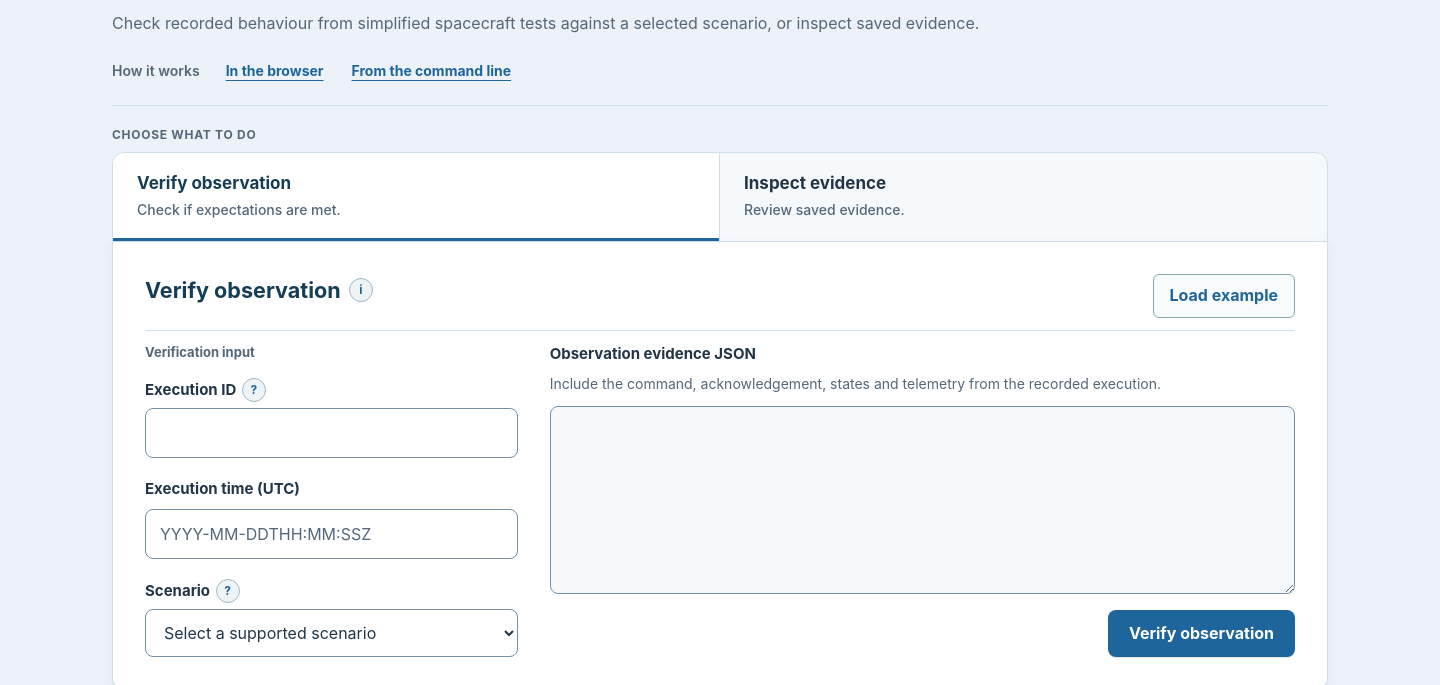
Scenario: App verification › renders completed PASS verification
Type "exec-web-verify-001" into the field labelled "Execution ID". click: (331,434)
box: [145, 408, 518, 458]
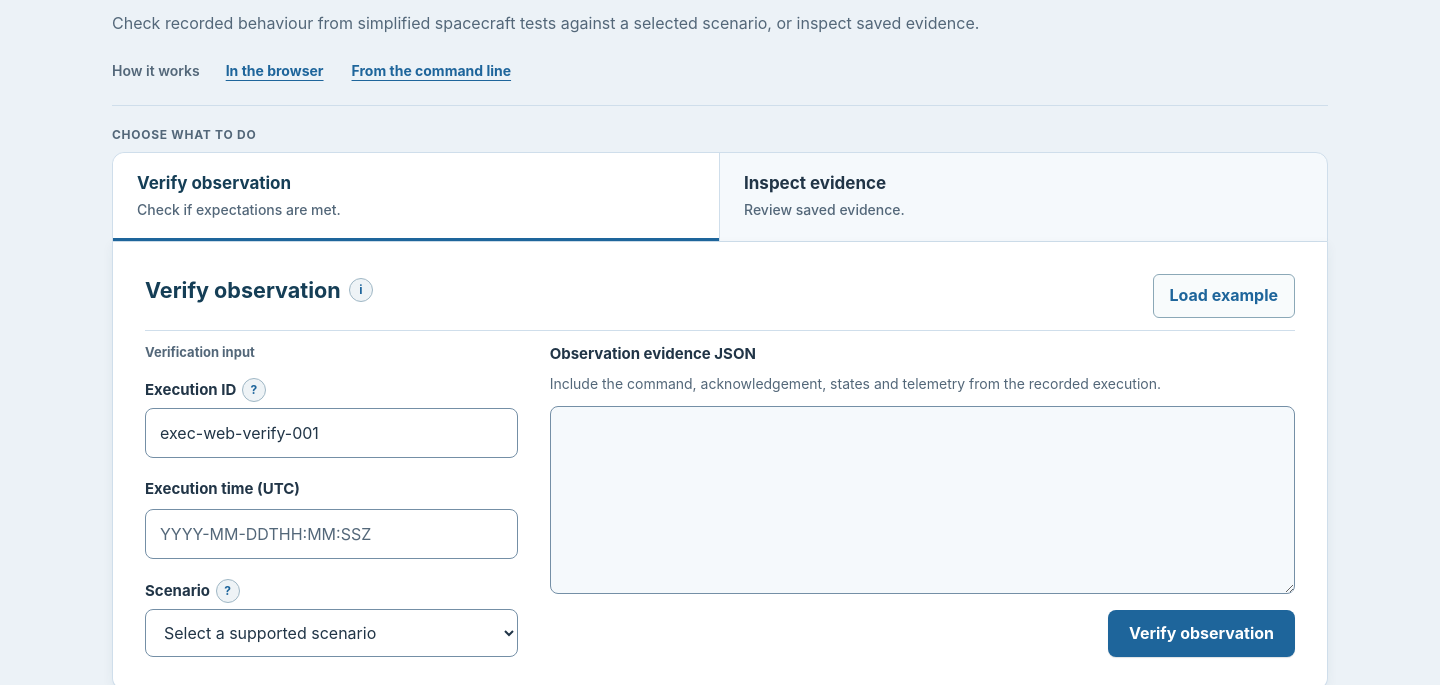
Type "2026-08-25T18:30:00Z" into the field labelled "Execution time (UTC)". click: (331,534)
box: [145, 509, 518, 559]
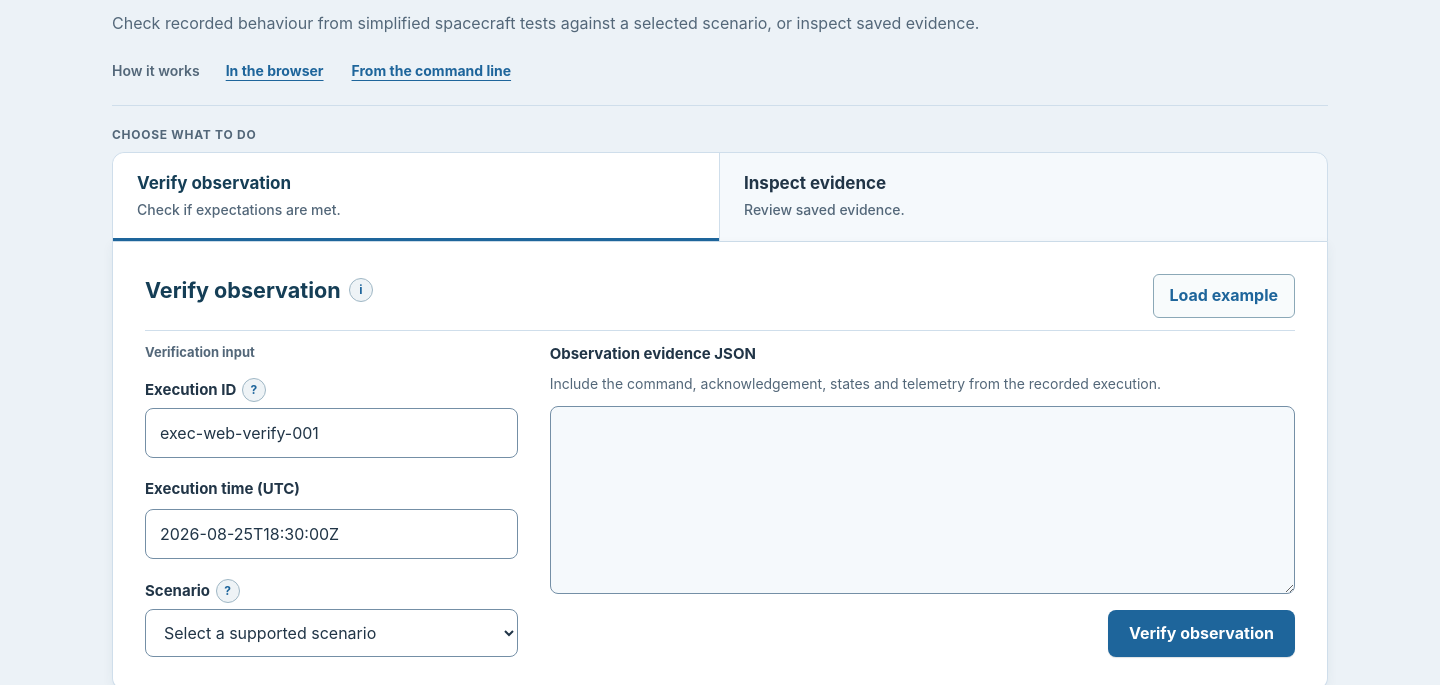
Select "NOMINAL to SAFE" in the dropdown labelled "Scenario". click: (331,633)
box: [145, 609, 518, 657]
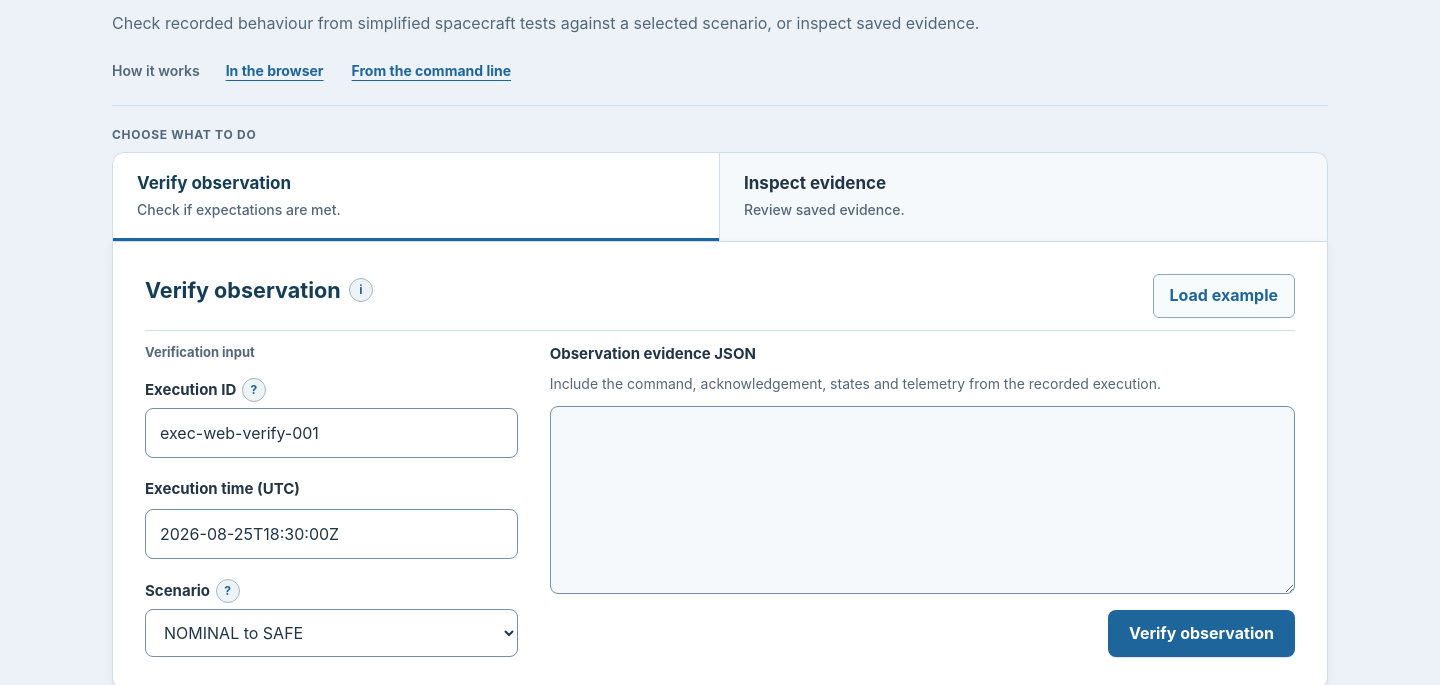
Type "raw observation evidence" into the text box labelled "Observation evidence JSON". click: (922,500)
box: [550, 406, 1295, 594]
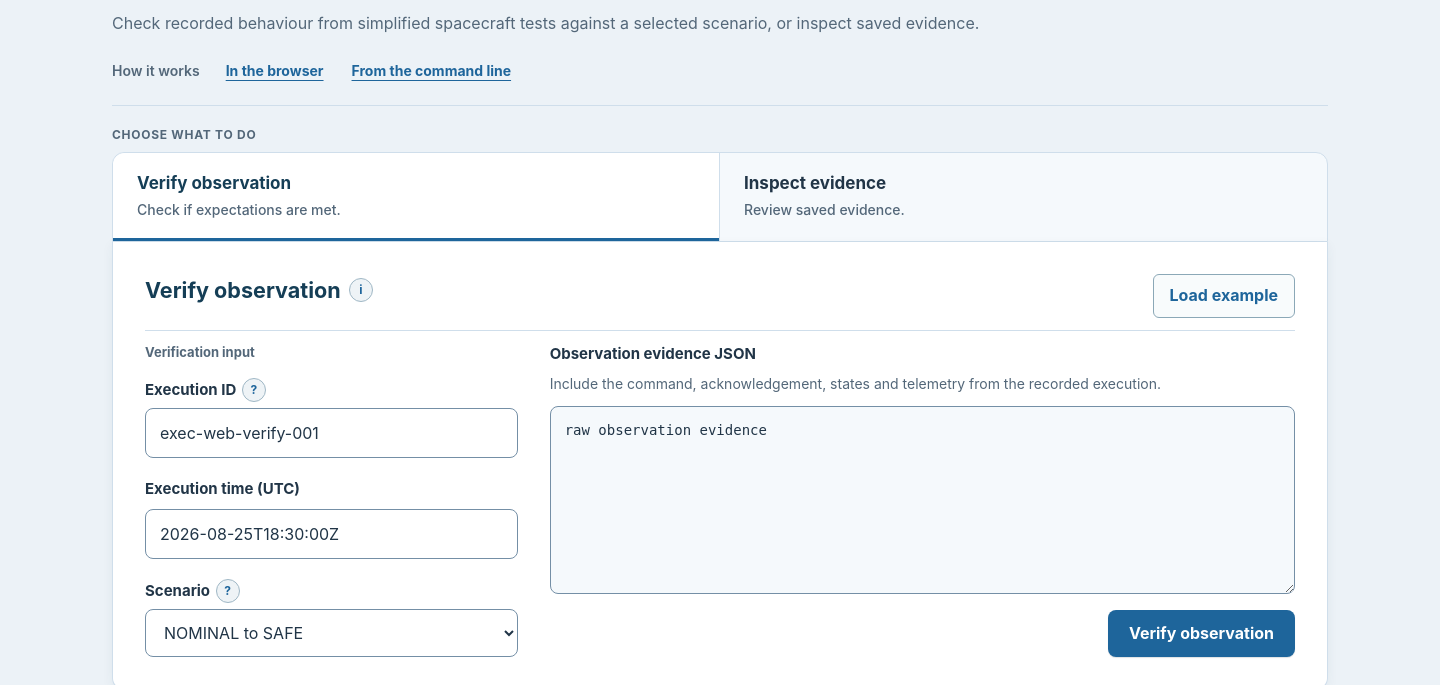
Click the button "Verify observation". click: (1201,633)
box: [1108, 610, 1295, 657]
(page scrolled)
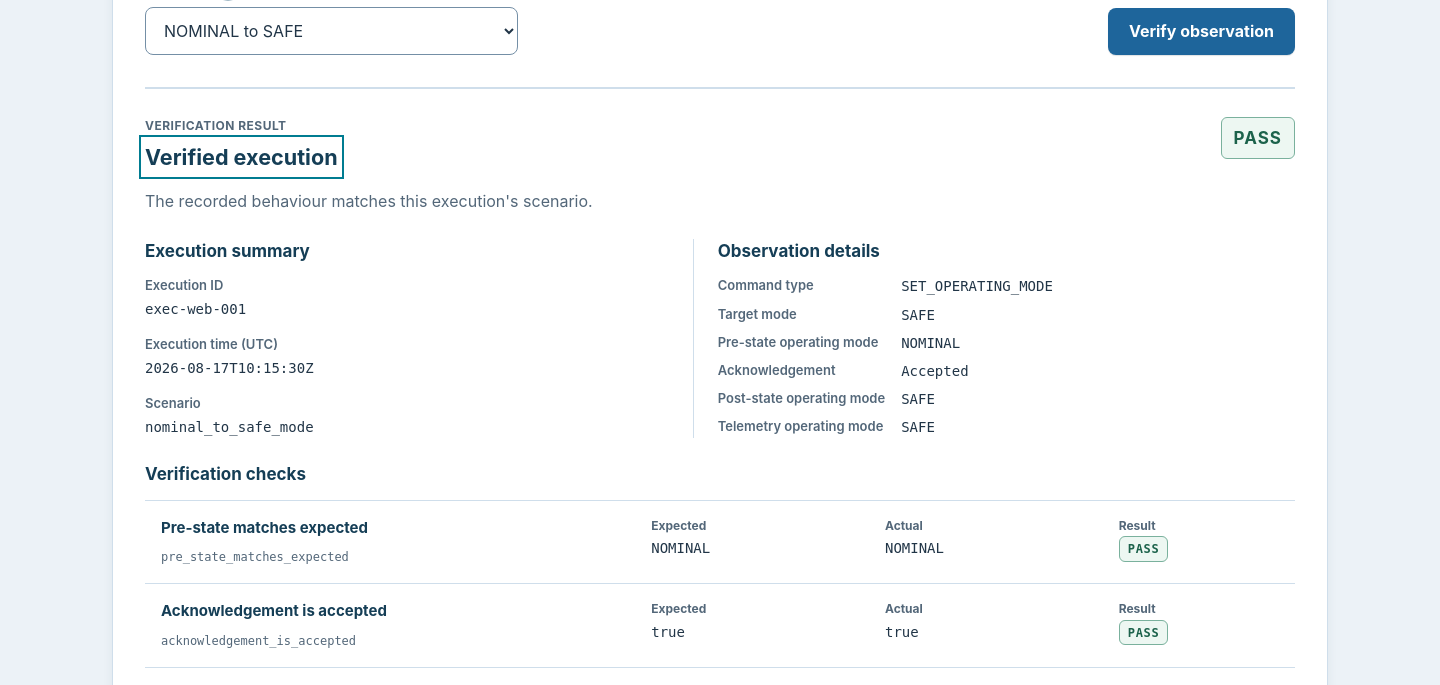
Expected: the text "exec-web-001" is shown, [145, 301, 246, 317]
Expected: the text "Verification result" is shown, [145, 118, 287, 133]
Expected: the text "The recorded behaviour matches this execution's scenario." is shown, [145, 191, 593, 211]
